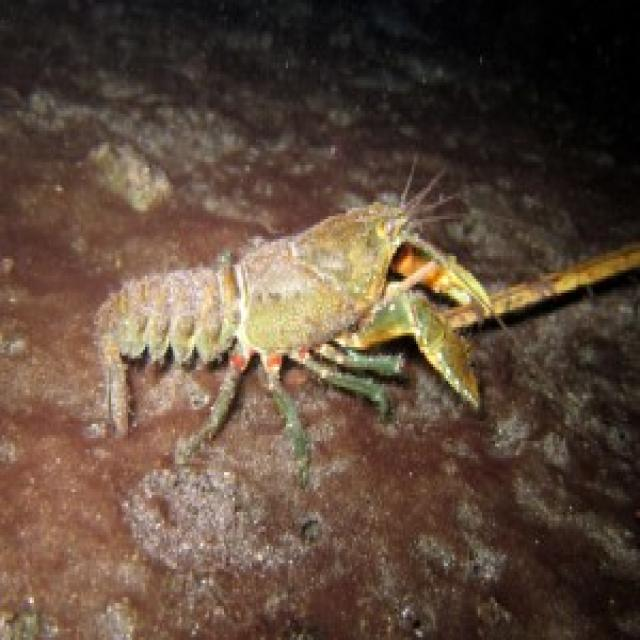lobsters: (107, 7, 576, 569)
